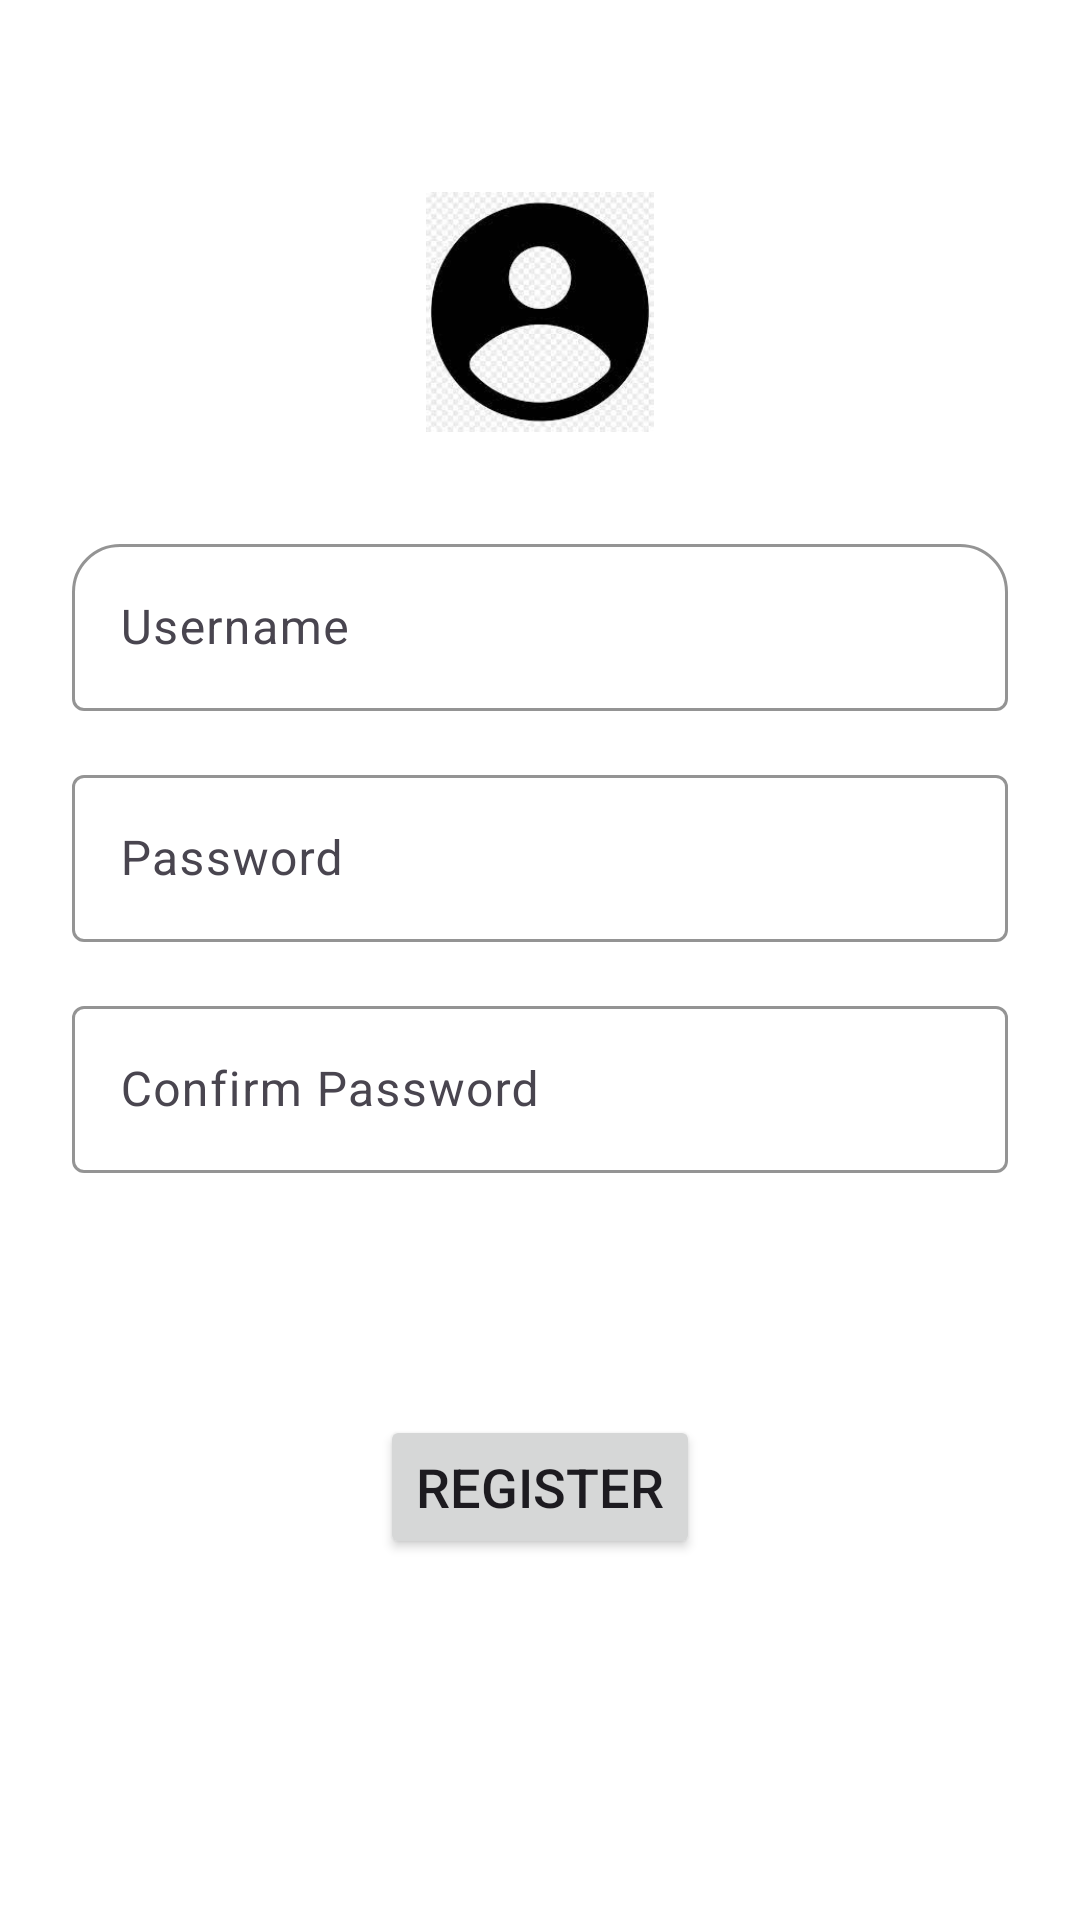

Screen size 1080 x 1920. Icon name, then its center in pixels as [x,y]:
iconperson: [538,312]
